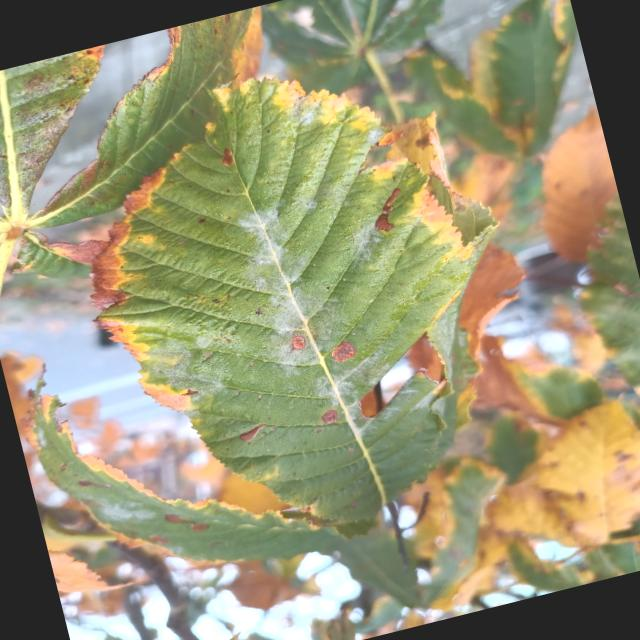powdery_mildew: (94, 79, 492, 522)
